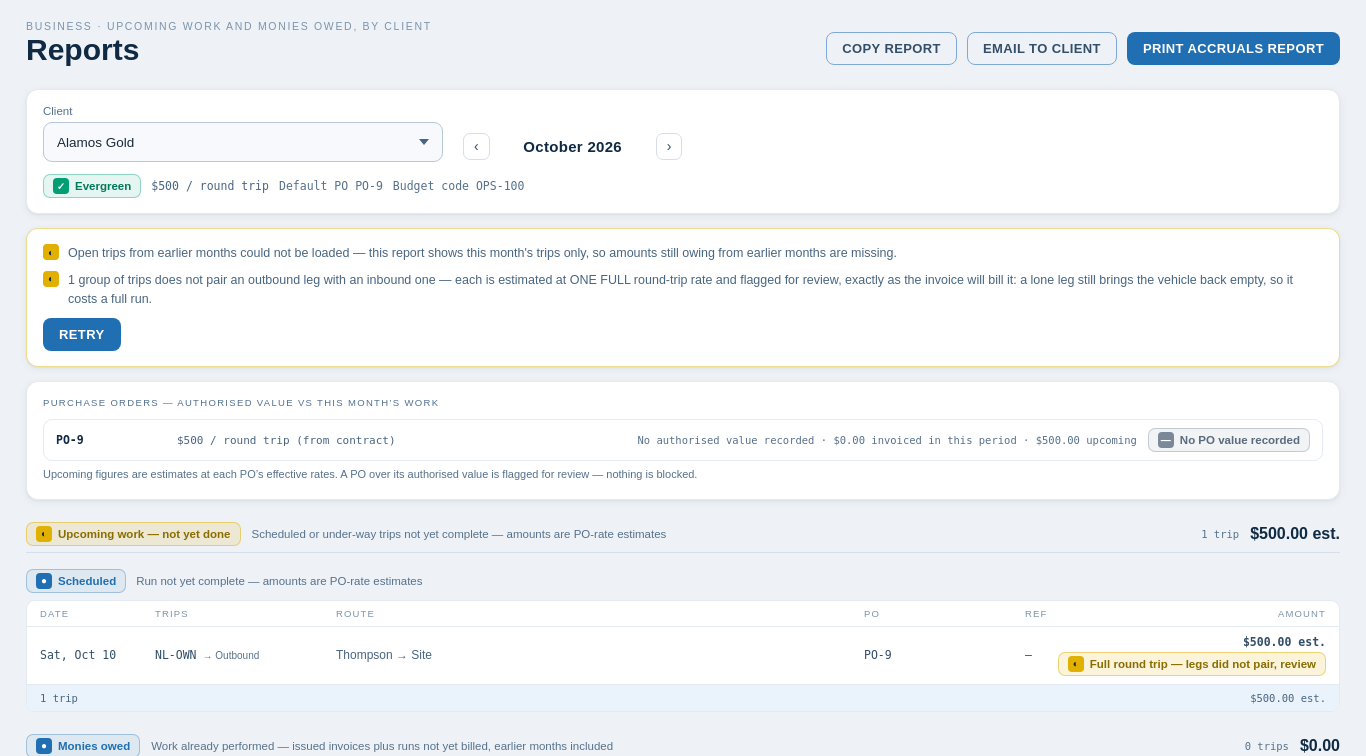
it: ClientAccruals — carry-forward failure › offers RETRY on a month WITH its own trips, and retrying refetches the earlier months
Expected: the text "Open trips from earlier months could not be loaded" is shown, [68,246,897,260]
Click the text "RETRY" at (82, 335), box [43,318,120,351]
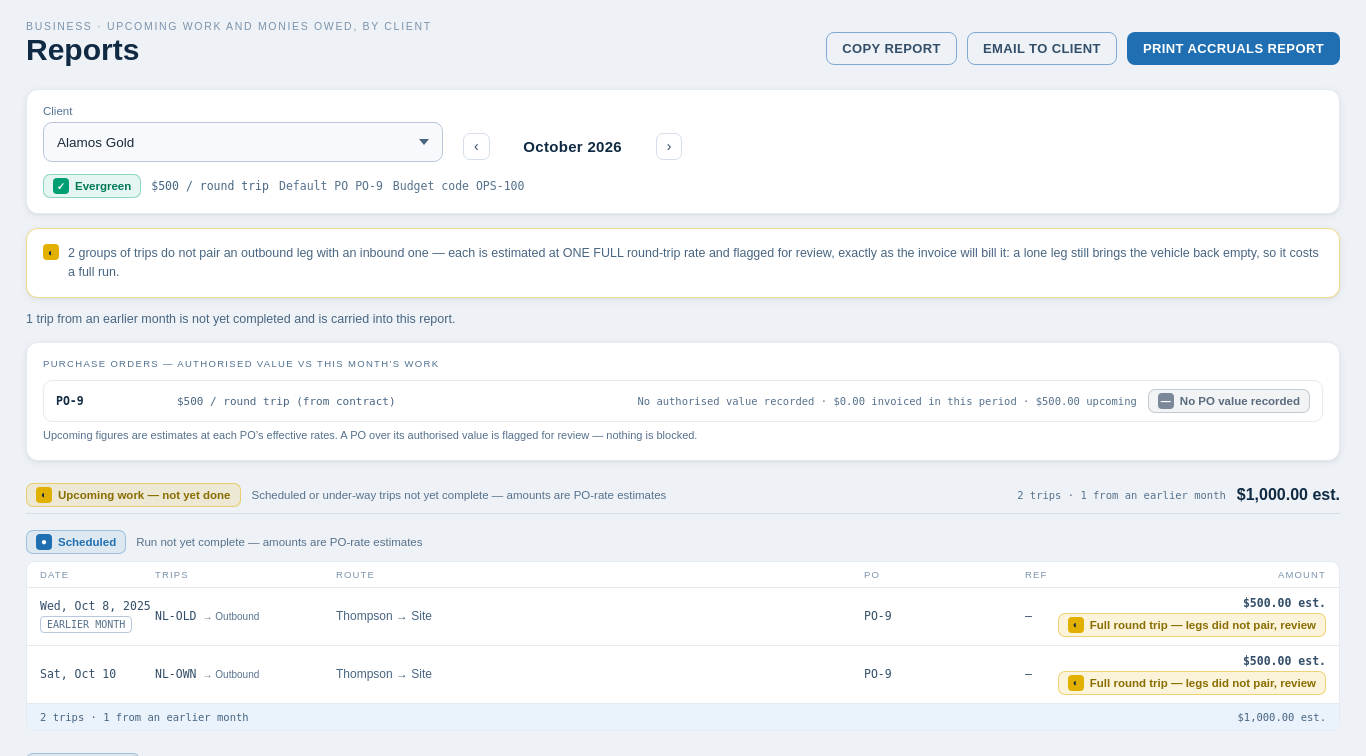
Expected: the text "Open trips from earlier months could not be loaded" is not shown
Expected: the text "RETRY" is gone
Expected: the text "Wed, Oct 8, 2025" is shown, [40,599,151,613]
